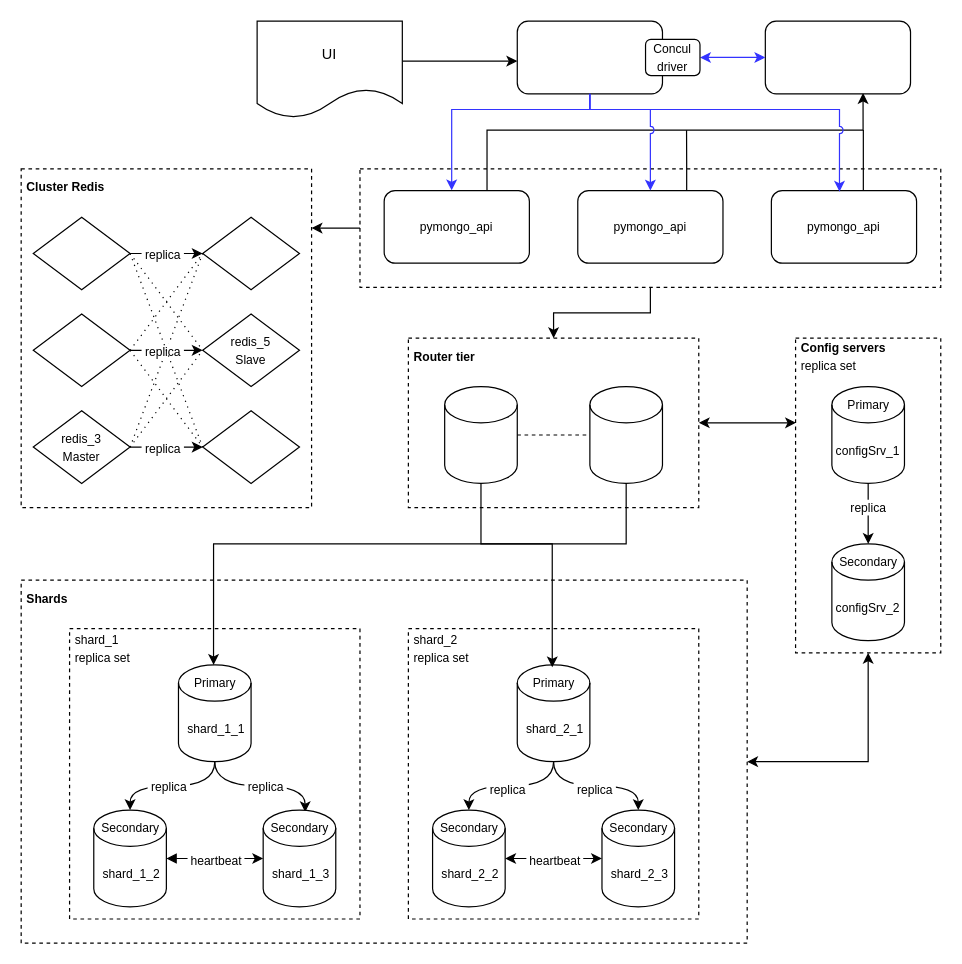
This 962x964 diagram has some shape labels left out. Each missing label, with the centre of its shape:
API Gateway: (x=589, y=57)
Concul: (x=837, y=57)
mongos_ router_ 1: (x=480, y=434)
mongos_ router_2: (x=625, y=434)
redis_1 Master: (x=81, y=253)
redis_2 Master: (x=81, y=350)
redis_4 Slave: (x=250, y=253)
redis_6 Slave: (x=250, y=446)
